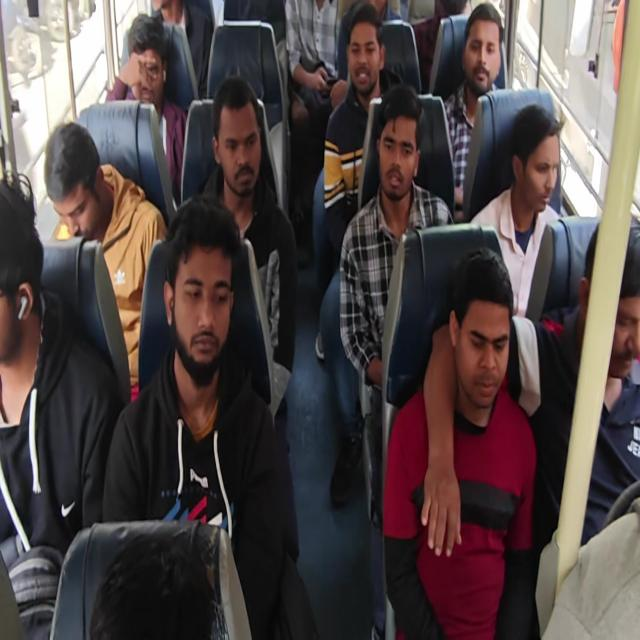person: (1, 1, 638, 638), (100, 194, 315, 638), (422, 215, 639, 636), (382, 246, 538, 638), (0, 171, 121, 638), (333, 82, 454, 506), (197, 75, 298, 451), (43, 121, 168, 401), (314, 2, 404, 360), (469, 102, 565, 322), (106, 14, 188, 204), (284, 1, 346, 234), (442, 1, 503, 220), (150, 0, 213, 97)
